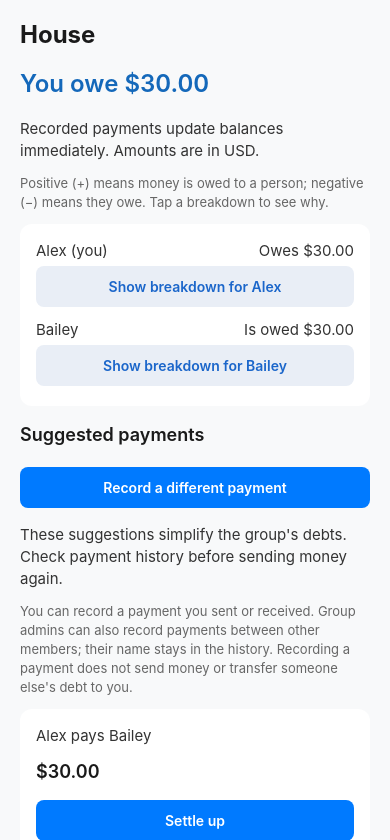
it: GroupBalancesScreen › explains signed expense shares and hides incomplete breakdowns
The image size is (390, 840).
Click the button "Show breakdown for Alex" at (195,286), box x1=36 y1=266 x2=354 y2=307
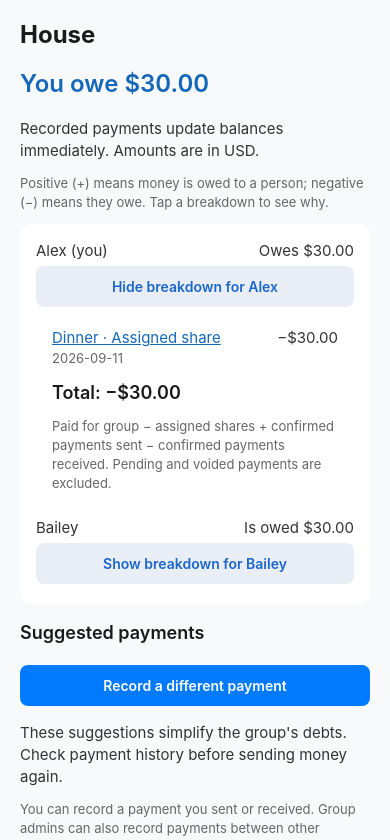
Check: the text "Dinner · Assigned share" is shown, box x1=52 y1=328 x2=221 y2=347
Check: the text "Total: −$30.00" is shown, box x1=52 y1=382 x2=181 y2=403
Click the button "Show breakdown for Bailey" at (195,564), box x1=36 y1=543 x2=354 y2=584
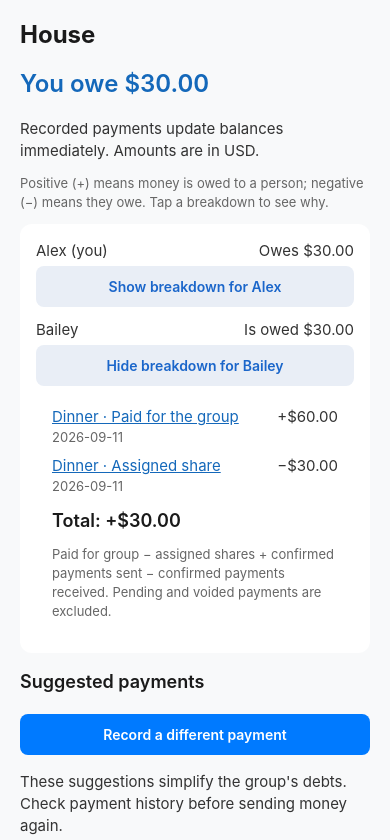
Check: the text "−$30.00" is shown, box x1=277 y1=456 x2=338 y2=475
Check: the text "Dinner · Paid for the group" is shown, box x1=52 y1=406 x2=265 y2=428
Check: the text "+$60.00" is shown, box x1=277 y1=407 x2=338 y2=426
